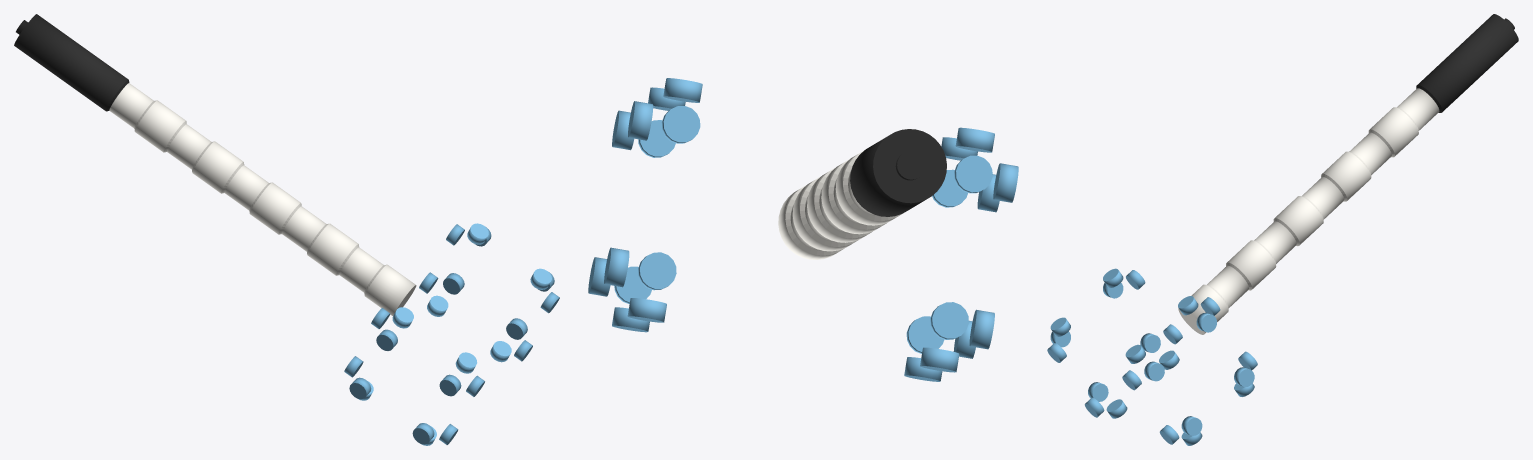
Rendered from Hummer_run_anim.fbx.
3 renders of one model, left to right at view 1: azimuth 30°, elevation 25°; view 2: azimuth 150°, elevation 25°; view 3: azimuth 270°, elevation 25°, orthographic. The views are drawn at different scales.
Visible parts, largest first — view 1: cube stage 3.009; view 2: cube stage 3.009; view 3: cube stage 3.009.
Part boxes in pixels (bbox=[...]): cube stage 3.009: bbox=[14, 14, 559, 445]; cube stage 3.009: bbox=[588, 78, 1018, 381]; cube stage 3.009: bbox=[1047, 14, 1518, 445].
Bounding box in the file's own units: 211 × 185 × 253.
